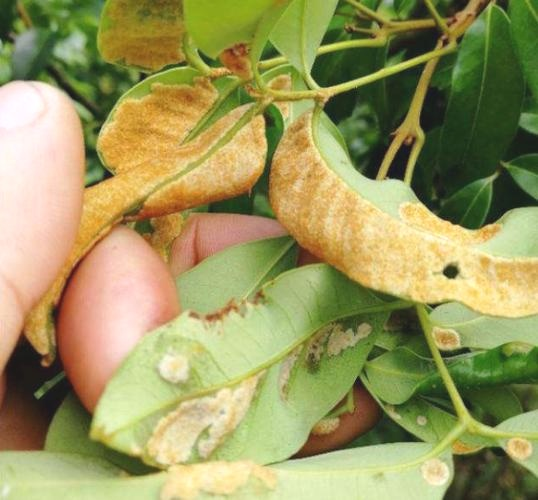Anthracnose: (269, 110, 504, 319), (81, 67, 249, 233), (120, 353, 263, 467), (104, 13, 222, 86)
